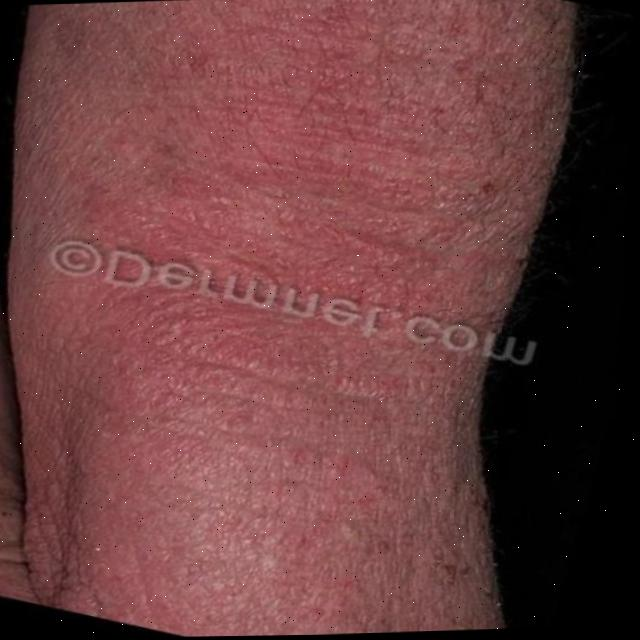Eczema: (49, 0, 534, 590)
